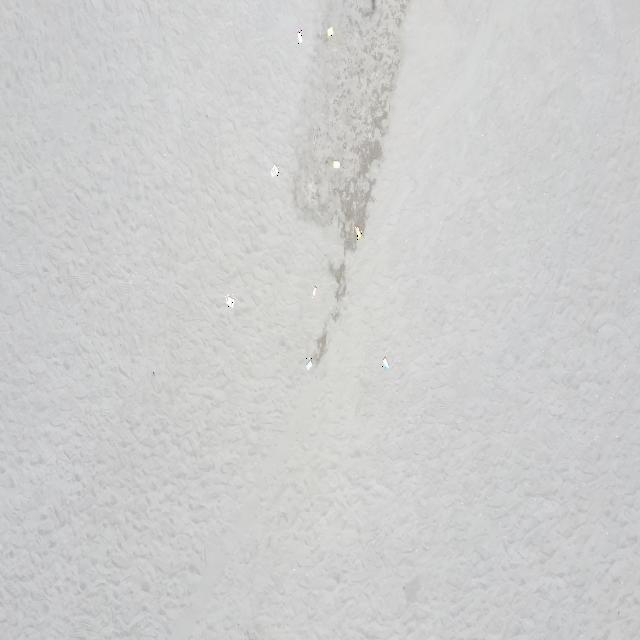Garbage: (224, 295, 235, 307), (353, 226, 362, 239), (270, 163, 278, 176), (304, 356, 312, 368), (296, 28, 301, 43), (382, 356, 387, 367), (332, 160, 339, 167), (327, 27, 332, 36), (312, 286, 316, 296)
